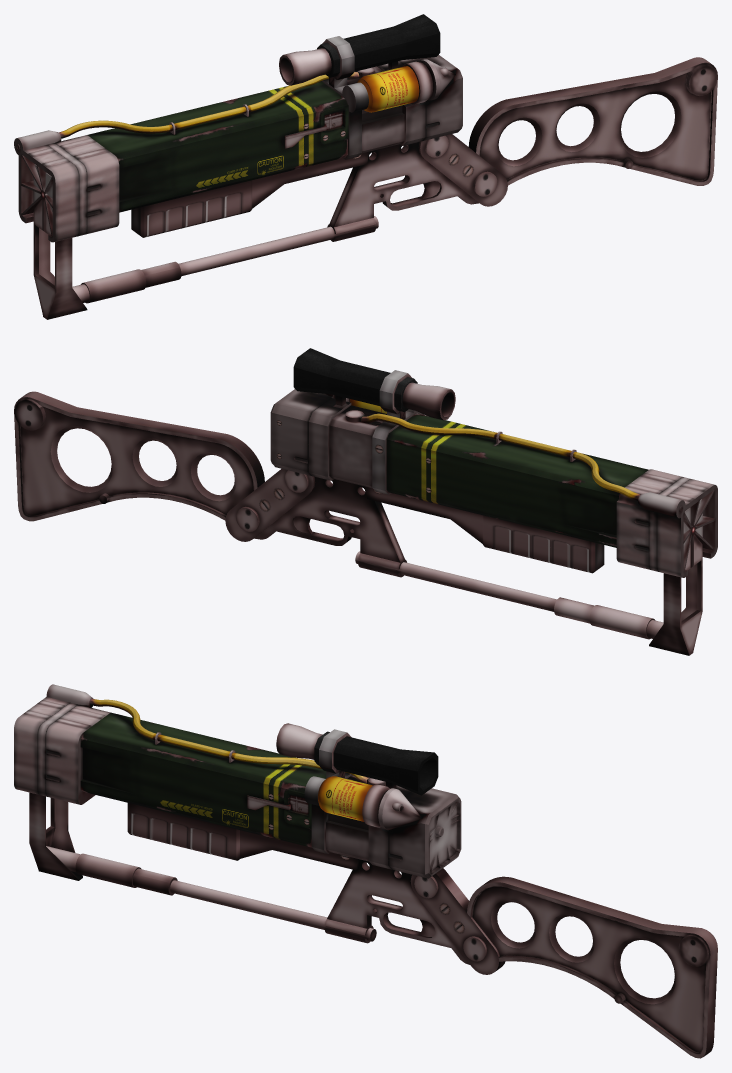
File: laserrifle.obj
3 renders of one model, top to bottom at view 1: azimuth 30°, elevation 25°; view 2: azimuth 150°, elevation 25°; view 3: azimuth 330°, elevation 25°, orthographic.
Visible parts, largest first — view 1: imported_mesh_mesh; view 2: imported_mesh_mesh; view 3: imported_mesh_mesh.
Boxes of the visible parts, left/top/right/bottom form: imported_mesh_mesh: left=14, top=14, right=717, bottom=319; imported_mesh_mesh: left=14, top=348, right=717, bottom=655; imported_mesh_mesh: left=14, top=684, right=717, bottom=1058.
Bounding box in the file's own units: 21.2 × 6.88 × 2.76.
Materials: 1 (1 with a texture image).
